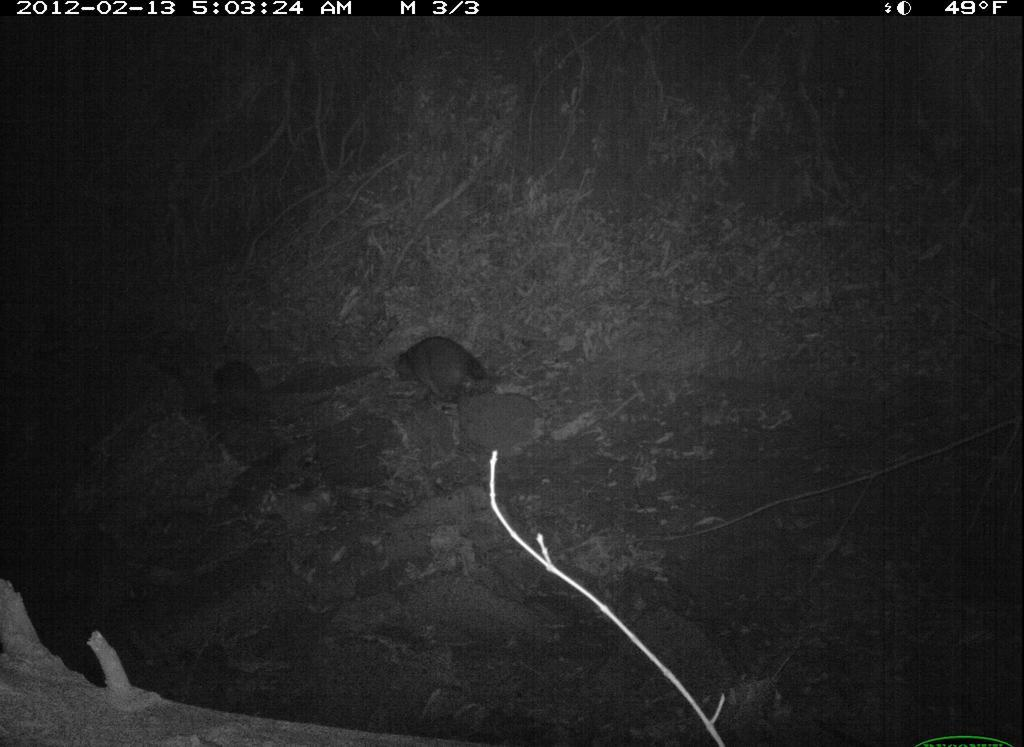raccoon: (387, 329, 519, 410)
